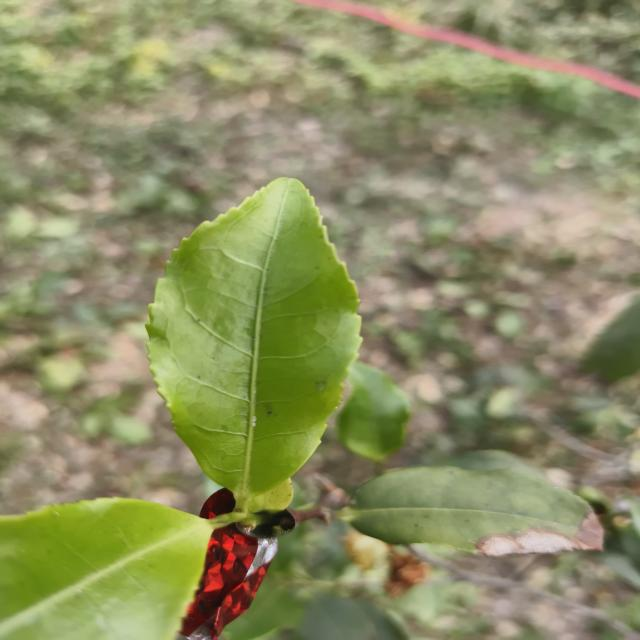Leaf: (147, 178, 361, 499), (0, 498, 214, 640), (346, 467, 603, 556), (336, 362, 410, 462), (582, 297, 640, 381)
